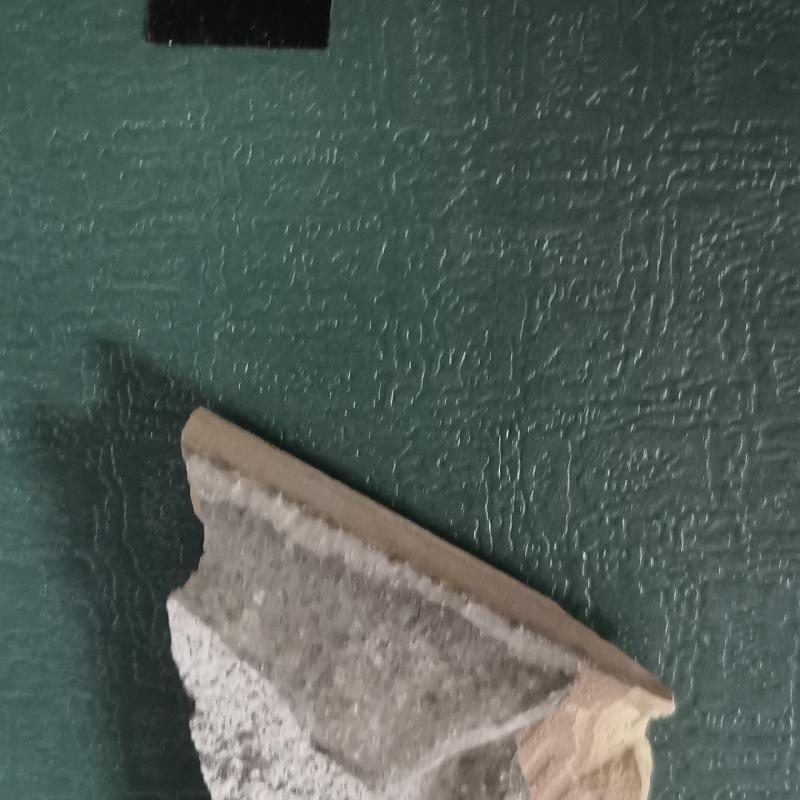tile: (150, 401, 746, 800)
